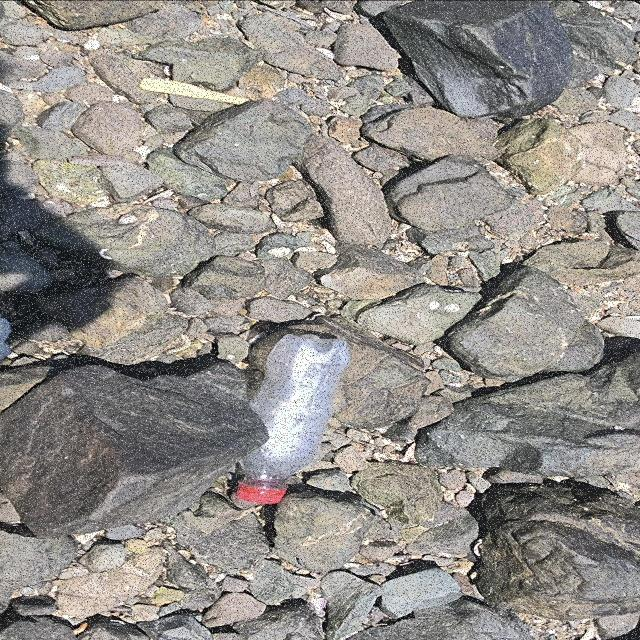plastic_waste: (236, 333, 353, 505)
